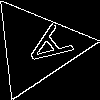A: (12, 21, 74, 76)
